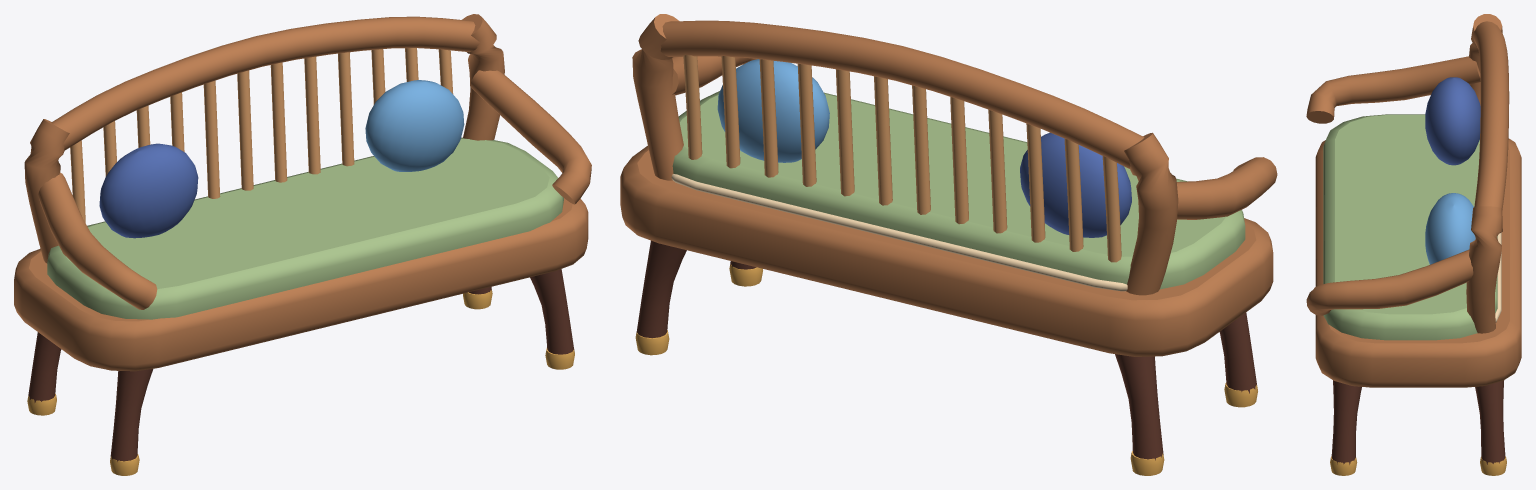
File: atelier_window_bench.glb
3 renders of one model, left to right at view 1: azimuth 30°, elevation 25°; view 2: azimuth 150°, elevation 25°; view 3: azimuth 270°, elevation 25°, orthographic. The views are drawn at different scales.
Visible parts, largest first — view 1: Banco de galería; view 2: Banco de galería; view 3: Banco de galería.
Boxes of the visible parts, box(x1,y1,x2,y2) form: Banco de galería: box(14, 14, 591, 475); Banco de galería: box(620, 14, 1277, 475); Banco de galería: box(1306, 14, 1521, 475).
Bounding box in the file's own units: 1.68 × 1.01 × 0.6787.
